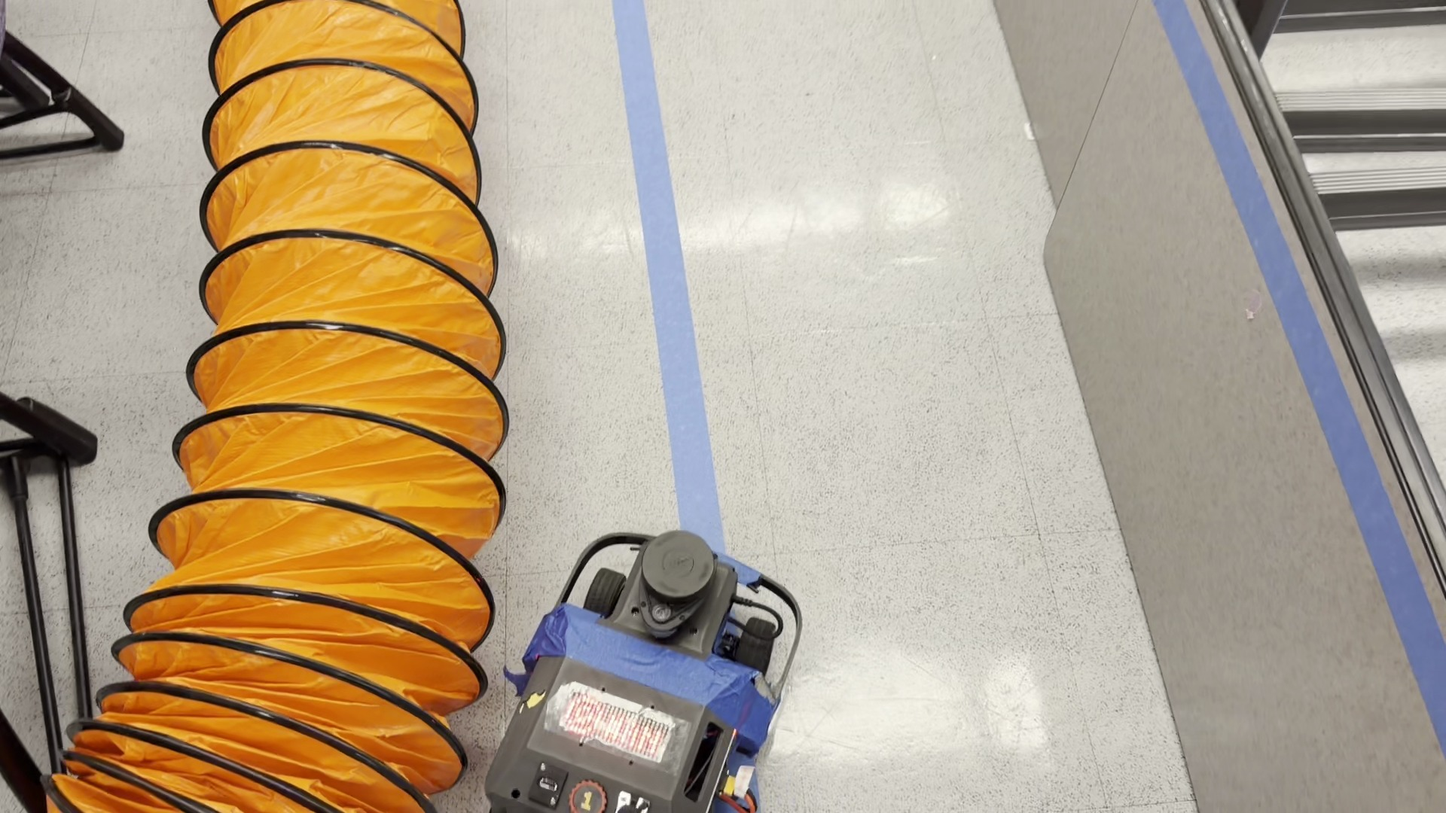racecar: (496, 530, 800, 809)
